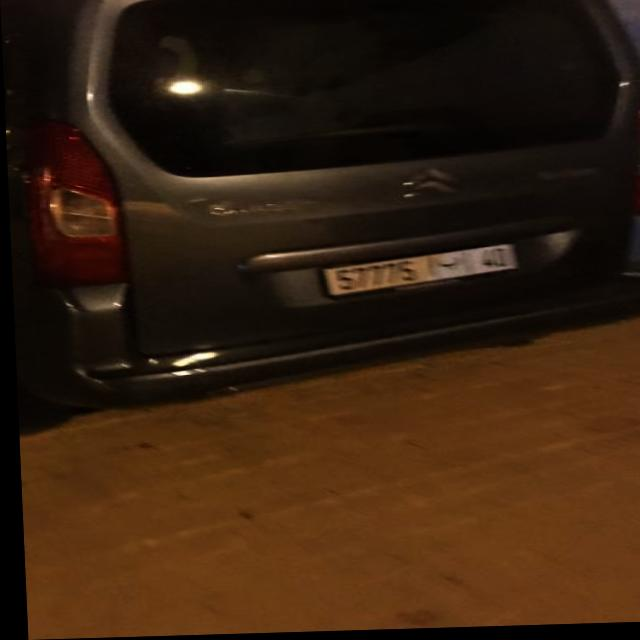License-Plate: (322, 248, 513, 298)
